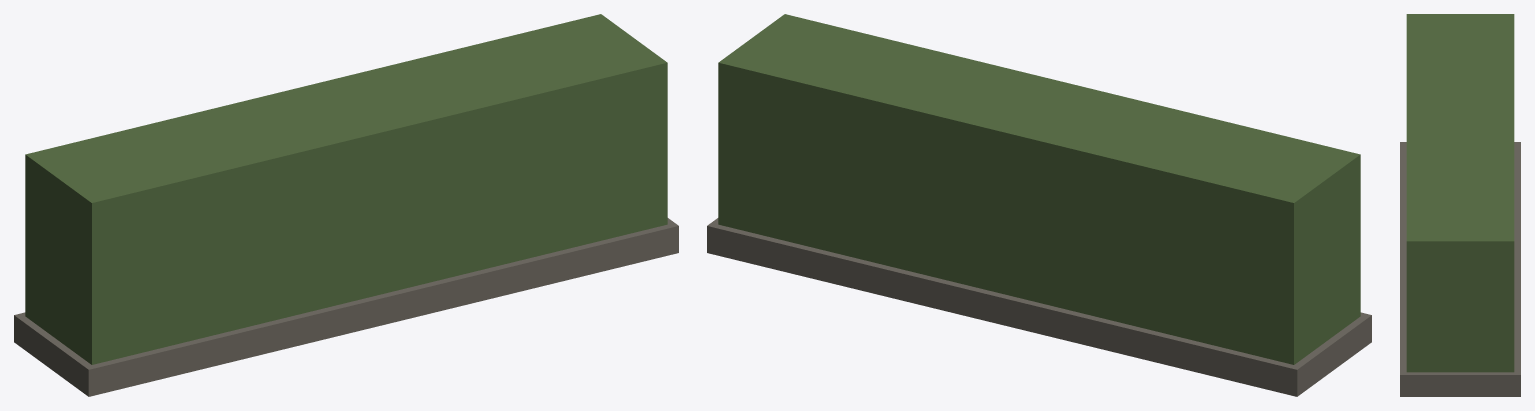
Rendered from Hedge.glb.
3 renders of one model, left to right at view 1: azimuth 30°, elevation 25°; view 2: azimuth 150°, elevation 25°; view 3: azimuth 270°, elevation 25°, orthographic. The views are drawn at different scales.
Visible parts, largest first — view 1: hedge-static-hedge-leaf, hedge-static-hedge-base; view 2: hedge-static-hedge-leaf, hedge-static-hedge-base; view 3: hedge-static-hedge-leaf, hedge-static-hedge-base.
Part boxes in pixels (left/top/right/bottom): hedge-static-hedge-leaf: left=25, top=14, right=667, bottom=364; hedge-static-hedge-base: left=14, top=218, right=678, bottom=396; hedge-static-hedge-leaf: left=718, top=14, right=1360, bottom=364; hedge-static-hedge-base: left=707, top=218, right=1371, bottom=396; hedge-static-hedge-leaf: left=1406, top=14, right=1514, bottom=372; hedge-static-hedge-base: left=1400, top=142, right=1520, bottom=396.
Size of the model in its own units: 4.1 by 1.25 by 0.9.
